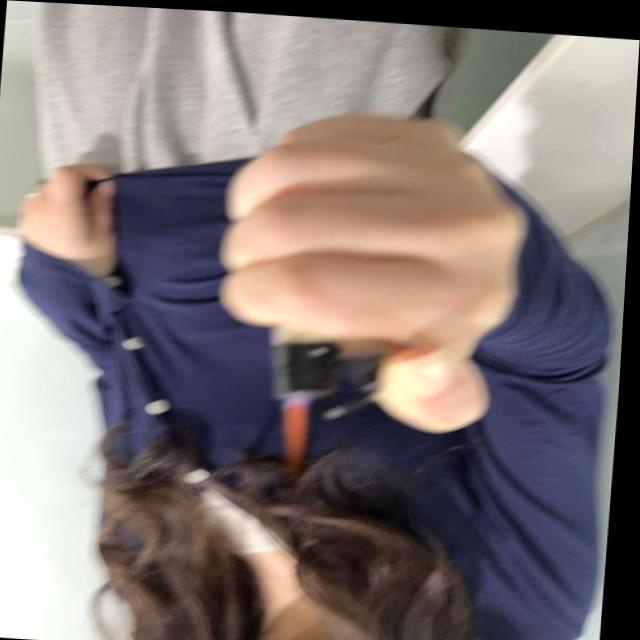fire: (276, 386, 316, 474)
